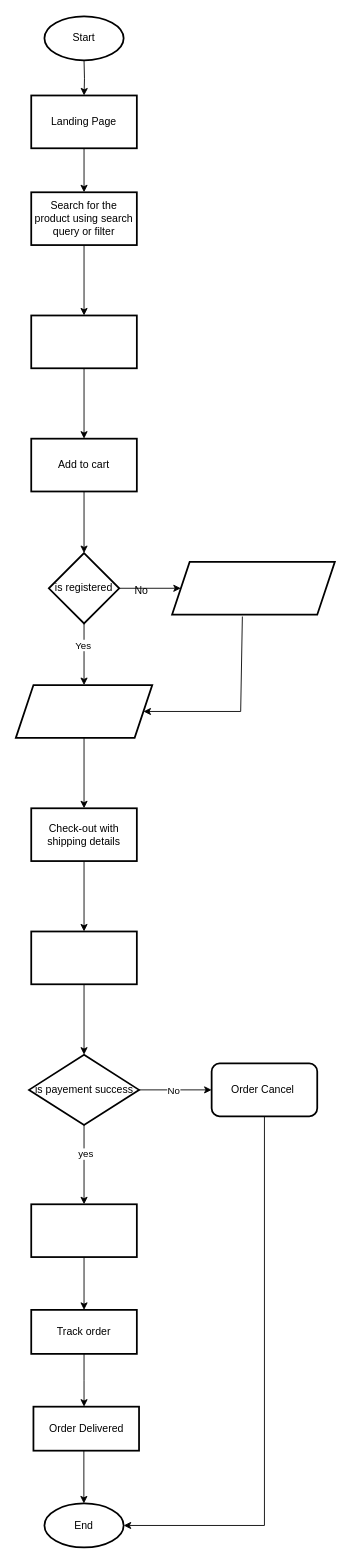
Some shapes in this 351 by 1563 pixel diagram are drawn without their labels. The shapes that lost their labels are listed below. From the top down, each one's box as (x1, y1, x2, y2) in pixels, then its label:
(30, 314, 137, 369): Select the product
(171, 561, 335, 615): Register using all required information
(15, 684, 153, 738): Login using credential
(30, 930, 137, 985): Select payment option
(30, 1203, 137, 1258): Order Sucess
